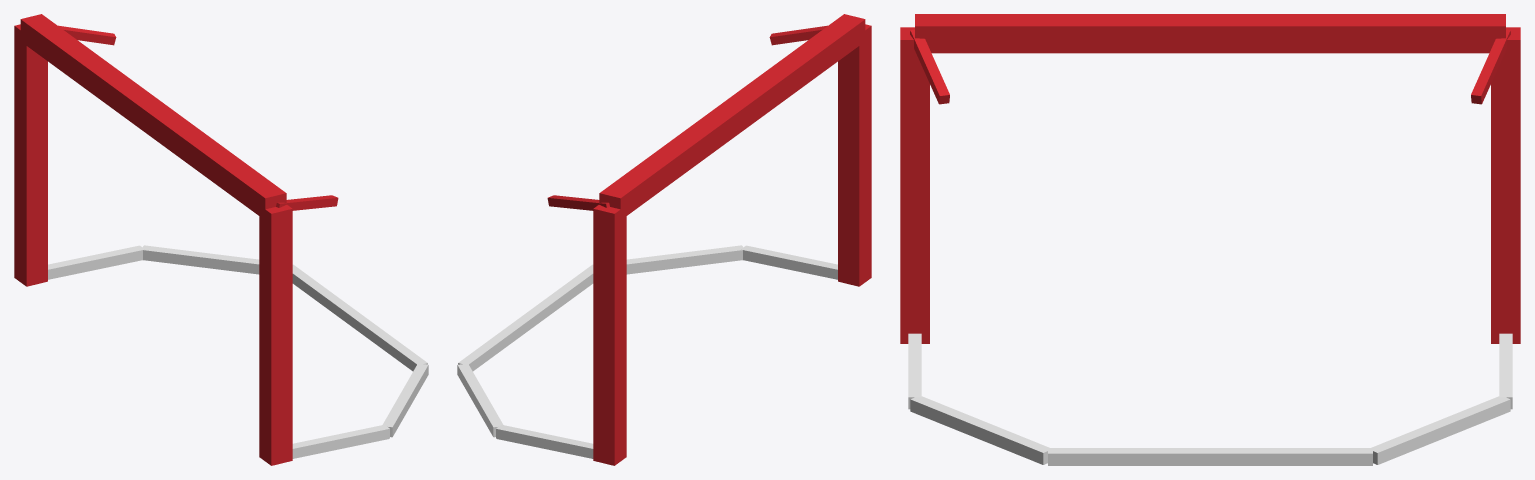
File: goal.glb
The picture shows the model from 3 angles, left to right: view 1: azimuth 30°, elevation 25°; view 2: azimuth 150°, elevation 25°; view 3: azimuth 270°, elevation 25°; orthographic projection. The views are drawn at different scales.
Parts seen in each view (by area): view 1: ice_goal_body; view 2: ice_goal_body; view 3: ice_goal_body.
Part boxes in pixels (x1,y1,x2,y2): ice_goal_body: (14, 14, 428, 465); ice_goal_body: (457, 14, 871, 465); ice_goal_body: (900, 14, 1520, 465).
Bounding box in the file's own units: 1.13 × 1.33 × 2.31.
Materials: 1 (1 with a texture image).
